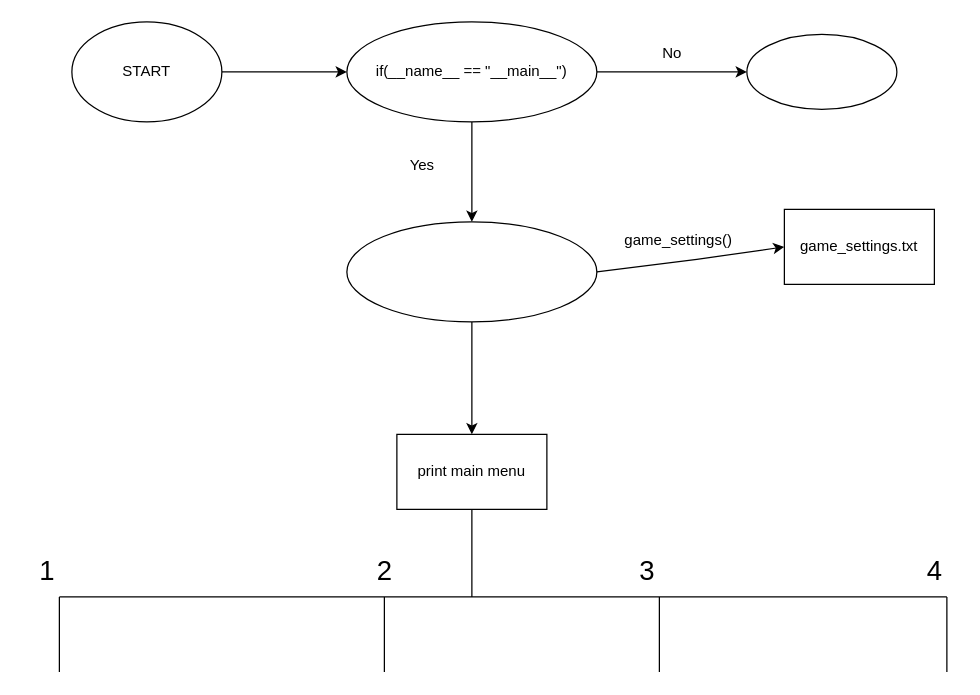
Some shapes in this 980 by 695 pixel diagram are drawn without their labels. Each missing label, with the box of its shape:
exit: (746, 33, 897, 109)
initialize game settings: (346, 221, 597, 322)
